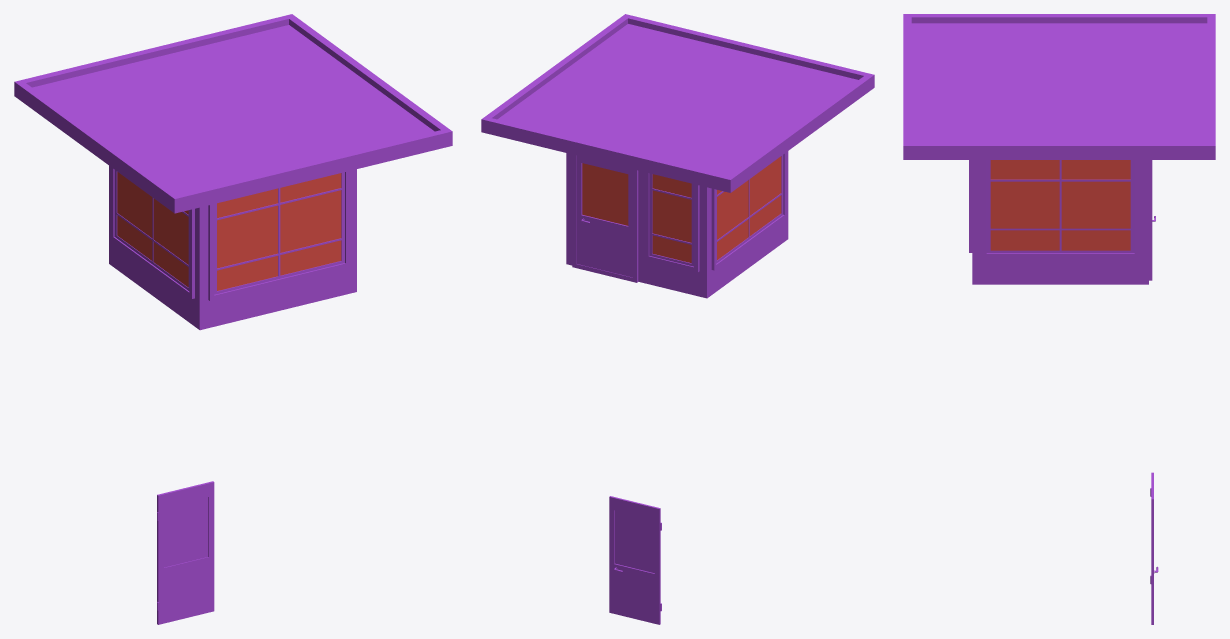
Rendered from MilitaryTowerInner&Overig.fbx.
3 views of the same model, side by side, from view 1: azimuth 30°, elevation 25°; view 2: azimuth 150°, elevation 25°; view 3: azimuth 270°, elevation 25° (orthographic). The views are drawn at different scales.
Visible parts, largest first — view 1: Dak&Inner; view 2: Dak&Inner; view 3: Dak&Inner.
Boxes of the visible parts, x1,y1,x2,y2 form: Dak&Inner: (14,14,452,624); Dak&Inner: (481,14,874,624); Dak&Inner: (903,14,1215,624).
Size of the model in its own units: 474 by 890 by 474.
